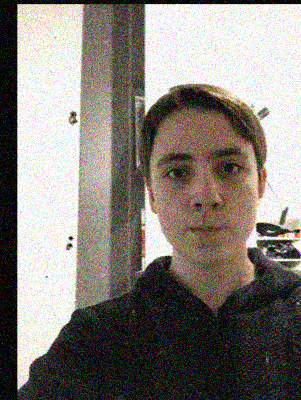without_mask: (152, 139, 258, 267)
